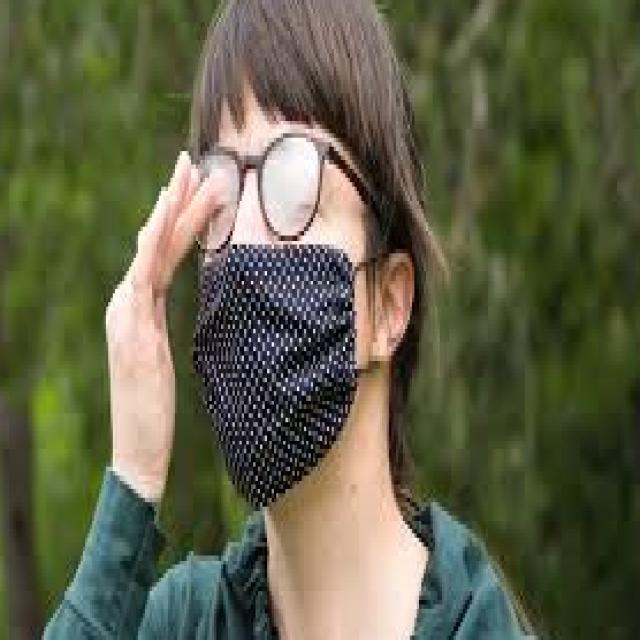Glasses: (180, 129, 393, 258)
